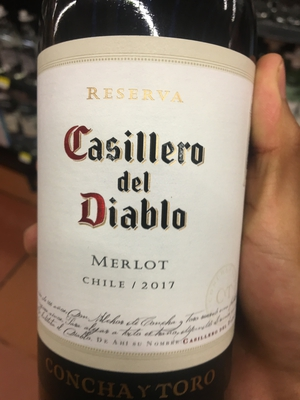casillero del diablo merlot: (30, 9, 260, 400)
